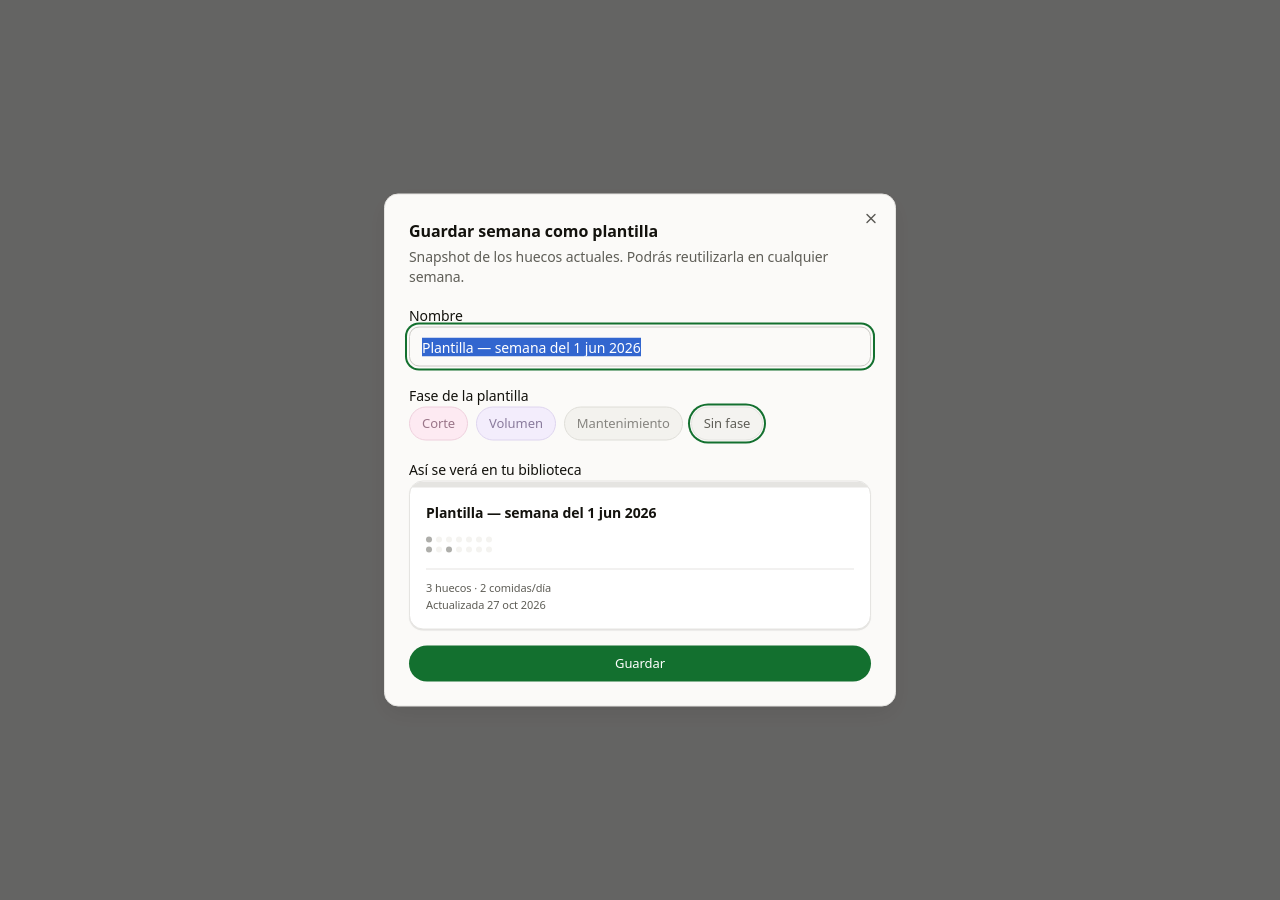
Test case: SaveAsTemplateDialog › retints the live preview card when the phase changes
Step 1. Click the radio button labelled "Corte" → (439, 423), box x1=409 y1=406 x2=468 y2=440
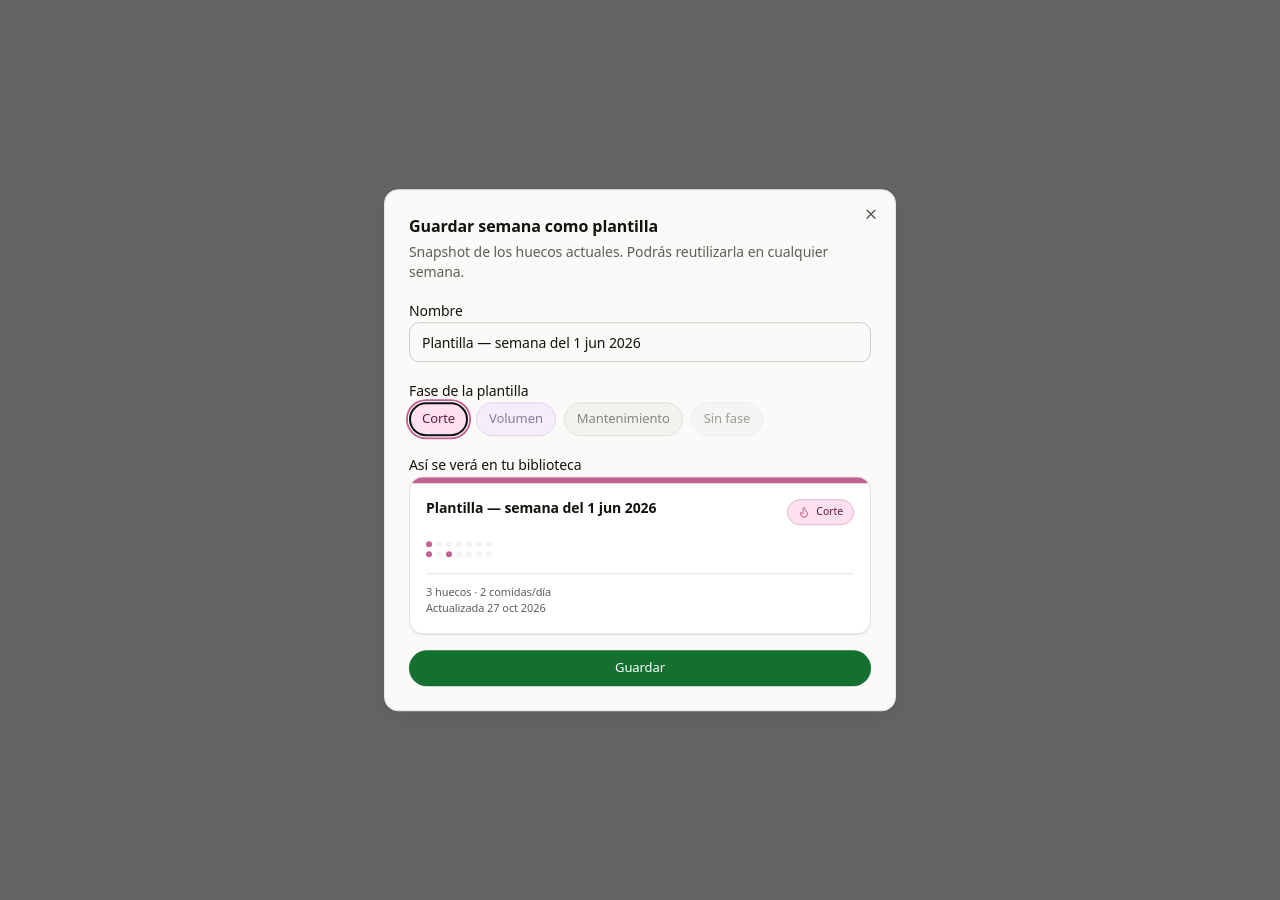
Now the text "Corte" is shown, box x1=787 y1=499 x2=854 y2=525
